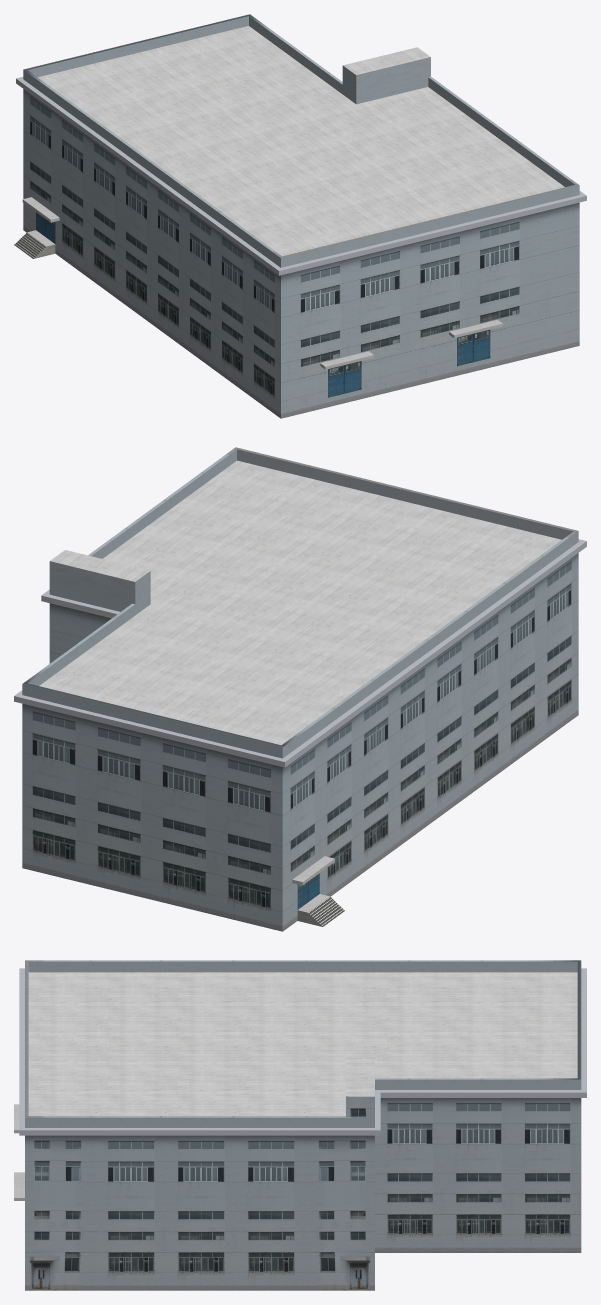
File: Dummy Building 1.FBX
3 views of the same model, one above another, from view 1: azimuth 30°, elevation 25°; view 2: azimuth 150°, elevation 25°; view 3: azimuth 270°, elevation 25° (orthographic). The views are drawn at different scales.
Parts seen in each view (by area): view 1: Dummy Building 1; view 2: Dummy Building 1; view 3: Dummy Building 1.
Boxes of the visible parts, bbox=[...] form: Dummy Building 1: bbox=[14, 14, 586, 418]; Dummy Building 1: bbox=[14, 447, 586, 931]; Dummy Building 1: bbox=[14, 960, 586, 1290].
Bounding box in the file's own units: 3500 × 1850 × 4946.
